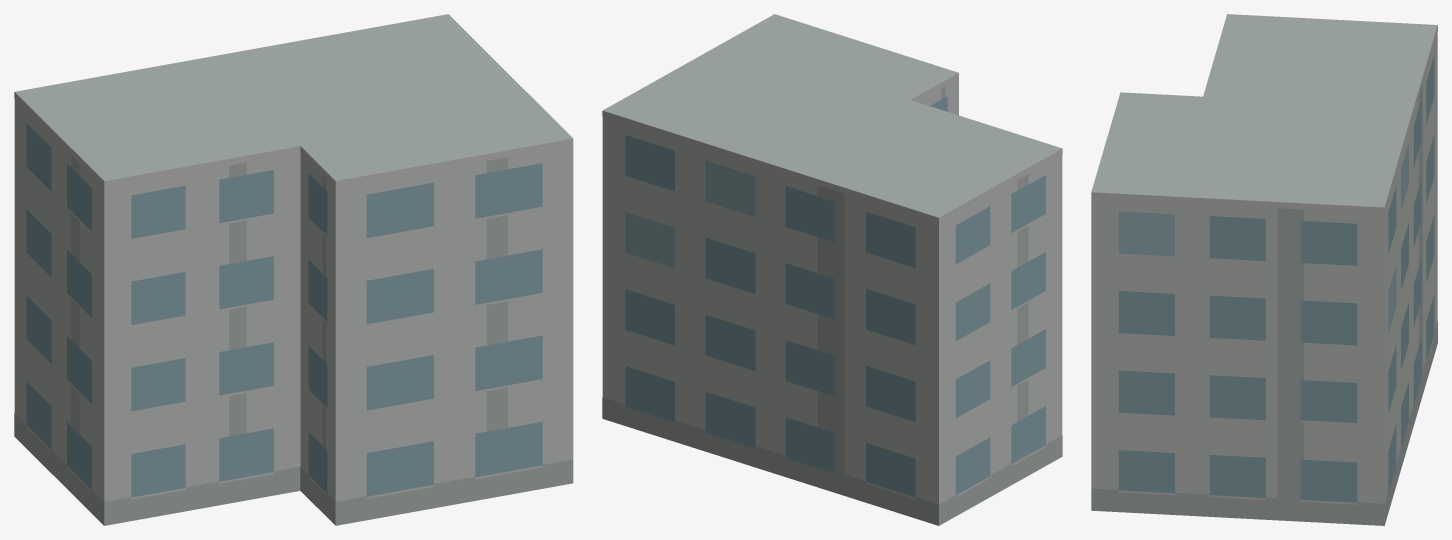
File: residential-7e09f78f-0b72-4ccb-87eb-511cdbde31c5.glb
3 views of the same model, side by side, from view 1: azimuth 30°, elevation 25°; view 2: azimuth 150°, elevation 25°; view 3: azimuth 270°, elevation 25° (orthographic). The views are drawn at different scales.
Visible parts, largest first — view 1: residential-7e09f78f-0b72-4ccb-87eb-511cdbde31c5.tmp; view 2: residential-7e09f78f-0b72-4ccb-87eb-511cdbde31c5.tmp; view 3: residential-7e09f78f-0b72-4ccb-87eb-511cdbde31c5.tmp.
Boxes of the visible parts, x1,y1,x2,y2 form: residential-7e09f78f-0b72-4ccb-87eb-511cdbde31c5.tmp: (14,14,573,525); residential-7e09f78f-0b72-4ccb-87eb-511cdbde31c5.tmp: (602,14,1062,525); residential-7e09f78f-0b72-4ccb-87eb-511cdbde31c5.tmp: (1091,14,1437,525).
Bounding box in the file's own units: 15.91 × 12.2 × 12.05.
